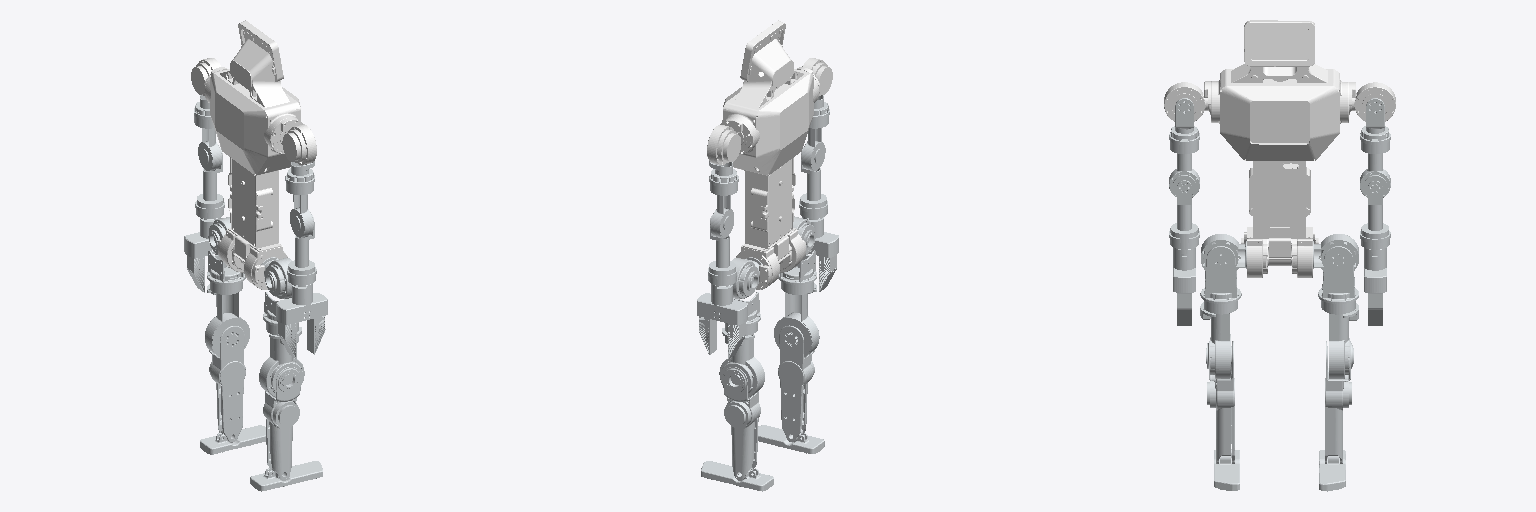
--- Render facts (derived) ---
Views: 3 orthographic renders of the robot side by side, from view 1: azimuth 30°, elevation 25°; view 2: azimuth 150°, elevation 25°; view 3: azimuth 270°, elevation 25°.
Robot: kbot — 22 links, 21 joints (10 revolute, 11 fixed); root link base; default pose: all joints at 0.
Links seen in each view (by area): view 1: body1-part, leg3_shell2, leg3_shell22, hand_shell_2, leg2_shell_2, leg2_shell, hand_shell, shoulder_2, foot3, leg1_shell, arm3_shell2, arm3_shell (+7 smaller); view 2: body1-part, leg3_shell22, leg3_shell2, hand_shell, leg2_shell, leg2_shell_2, hand_shell_2, foot1, shoulder, leg1_shell3, foot3, arm3_shell2 (+7 smaller); view 3: body1-part, leg1_shell, leg1_shell3, leg3_shell22, leg3_shell2, hand_shell_2, hand_shell, arm3_shell2, leg2_shell, arm3_shell, leg2_shell_2, arm1_top (+9 smaller).
Boxes of the visible links, x1,y1,x2,y2 form: body1-part: (204, 20, 302, 289); leg3_shell2: (209, 326, 245, 442); leg3_shell22: (263, 367, 300, 480); hand_shell_2: (276, 284, 327, 358); leg2_shell_2: (259, 338, 304, 397); leg2_shell: (205, 292, 249, 356); hand_shell: (184, 217, 220, 292); shoulder_2: (280, 124, 316, 164); foot3: (250, 461, 322, 491); leg1_shell: (207, 250, 245, 294); arm3_shell2: (287, 215, 316, 285); arm3_shell: (195, 148, 224, 218); body1-part: (720, 20, 819, 289); leg3_shell22: (778, 325, 814, 442); leg3_shell2: (723, 367, 760, 480); hand_shell: (697, 284, 747, 359); leg2_shell: (719, 334, 764, 397); leg2_shell_2: (774, 292, 819, 356); hand_shell_2: (802, 217, 838, 291); foot1: (701, 461, 773, 491); shoulder: (707, 125, 743, 164); leg1_shell3: (778, 250, 816, 294); foot3: (758, 425, 824, 453); arm3_shell2: (799, 147, 827, 218); body1-part: (1204, 20, 1355, 277); leg1_shell: (1318, 246, 1358, 320); leg1_shell3: (1200, 246, 1241, 319); leg3_shell22: (1207, 341, 1234, 463); leg3_shell2: (1325, 341, 1351, 463); hand_shell_2: (1173, 248, 1195, 325); hand_shell: (1364, 248, 1386, 325); arm3_shell2: (1169, 180, 1199, 249); leg2_shell: (1329, 313, 1353, 378); arm3_shell: (1360, 181, 1390, 249); leg2_shell_2: (1206, 313, 1230, 378); arm1_top: (1360, 98, 1390, 153).
Bounding box of the posed robot: 0.2206 × 0.62 × 1.33 m (x, y, z).
21 mesh visuals loaded from 21 distinct referenced files (21 binary STL).

robot.urdf — kbot:
<robot name="kbot">
  <link name="base">
    <inertial>
      <origin rpy="0 0 0" xyz="0 0 0" />
      <mass value="0.001" />
      <inertia ixx="0.000001" ixy="0" ixz="0" iyy="0.000001" iyz="0" izz="0.000001" />
    </inertial>
  </link>
  <joint name="floating_base" type="fixed">
    <origin rpy="-1.57 3.14 0" xyz="0 0 0" />
    <parent link="base" />
    <child link="body1-part" />
  </joint>
  <link name="body1-part">
    <visual>
      <origin xyz="0 0 0" rpy="0 0 0" />
      <geometry>
        <mesh filename="meshes/body1-part.stl" />
      </geometry>
      <material name="body1-part_material">
        <color rgba="1 1 1 1" />
      </material>
    </visual>
    <collision>
      <origin xyz="0 0 0" rpy="0 0 0" />
      <geometry>
        <mesh filename="meshes/body1-part.stl" />
      </geometry>
    </collision>
    <inertial>
      <mass value="11.417627727" />
      <inertia ixx="0.5999083516993914" iyy="0.11036796524213266" izz="0.5097317878090031" ixy="0.008267685111984325" ixz="2.5827664262885333e-06" iyz="-0.0002480364319152404" />
      <origin xyz="-0.0030205706440076343 -0.1594728810161352 -0.00012751185828538186" rpy="0 0 0" />
    </inertial>
  </link>
  <joint name="L_shoulder_y" type="fixed">
    <origin xyz="-1.0603759e-05 0.018089562050771318 0.18749980999999996" rpy="3.1415926071795868 -2.220446049250313e-15 3.1415926071795868" />
    <parent link="body1-part" />
    <child link="shoulder" />
    <limit effort="80" velocity="5" lower="0" upper="3.1415927" />
    <axis xyz="0 0 1" />
  </joint>
  <link name="shoulder">
    <visual>
      <origin xyz="0 0 0" rpy="0 0 0" />
      <geometry>
        <mesh filename="meshes/shoulder.stl" />
      </geometry>
      <material name="shoulder_material">
        <color rgba="1 1 1 1" />
      </material>
    </visual>
    <collision>
      <origin xyz="0 0 0" rpy="0 0 0" />
      <geometry>
        <mesh filename="meshes/shoulder.stl" />
      </geometry>
    </collision>
    <inertial>
      <mass value="1.10769407" />
      <inertia ixx="0.001482119975775339" iyy="0.0010408512352939995" izz="0.0009860091656447958" ixy="1.6247468564122567e-08" ixz="-3.1279807919019336e-06" iyz="6.454824186323744e-09" />
      <origin xyz="-0.002143291631555535 5.498303797115525e-05 -0.06646243607358847" rpy="0 0 0" />
    </inertial>
  </link>
  <joint name="R_shoulder_y" type="fixed">
    <origin xyz="-1.0603759e-05 0.018089564 -0.18750019" rpy="0.0 0.0 -3.1415926071795863" />
    <parent link="body1-part" />
    <child link="shoulder_2" />
    <limit effort="80" velocity="5" lower="-3.1415927" upper="0" />
    <axis xyz="0 0 1" />
  </joint>
  <link name="shoulder_2">
    <visual>
      <origin xyz="0 0 0" rpy="0 0 0" />
      <geometry>
        <mesh filename="meshes/shoulder_2.stl" />
      </geometry>
      <material name="shoulder_material_2">
        <color rgba="1 1 1 1" />
      </material>
    </visual>
    <collision>
      <origin xyz="0 0 0" rpy="0 0 0" />
      <geometry>
        <mesh filename="meshes/shoulder_2.stl" />
      </geometry>
    </collision>
    <inertial>
      <mass value="1.10769287" />
      <inertia ixx="0.0014821176689157921" iyy="0.0010408501146374892" izz="0.0009860087317400204" ixy="-1.6193110601740246e-08" ixz="-3.1279664688578613e-06" iyz="-6.433007602960686e-09" />
      <origin xyz="-0.0021432871527224694 -5.498738075250492e-05 -0.0664624713194008" rpy="0 0 0" />
    </inertial>
  </link>
  <joint name="L_shoulder_x" type="fixed">
    <origin xyz="0.022511964 5.627838501275897e-05 -0.06749999993301277" rpy="1.5707963 2.220446049250313e-16 1.5707963" />
    <parent link="shoulder" />
    <child link="arm1_top" />
    <limit effort="80" velocity="5" lower="-0.47996554" upper="3.6302848" />
    <axis xyz="0 0 -1" />
  </joint>
  <link name="arm1_top">
    <visual>
      <origin xyz="0 0 0" rpy="0 0 0" />
      <geometry>
        <mesh filename="meshes/arm1_top.stl" />
      </geometry>
      <material name="arm1_top_material">
        <color rgba="0.89803922 0.91764706 0.92941176 1" />
      </material>
    </visual>
    <collision>
      <origin xyz="0 0 0" rpy="0 0 0" />
      <geometry>
        <mesh filename="meshes/arm1_top.stl" />
      </geometry>
    </collision>
    <inertial>
      <mass value="0.6485195170000001" />
      <inertia ixx="0.0005534340544495192" iyy="0.001294931504165387" izz="0.0012122867763442184" ixy="2.74317480147297e-09" ixz="-0.0002934973441160383" iyz="-1.2020658865489369e-08" />
      <origin xyz="-0.10491673233892948 -2.224482447297966e-06 -0.02270232245867197" rpy="0 0 0" />
    </inertial>
  </link>
  <joint name="R_shoulder_x" type="fixed">
    <origin xyz="0.022511964 -5.627838501275897e-05 -0.06749999993301277" rpy="1.5707963999999996 2.220446049250313e-16 -1.5707963000000003" />
    <parent link="shoulder_2" />
    <child link="arm1_top_2" />
    <limit effort="80" velocity="5" lower="-0.47996554" upper="3.6302848" />
    <axis xyz="0 0 1" />
  </joint>
  <link name="arm1_top_2">
    <visual>
      <origin xyz="0 0 0" rpy="0 0 0" />
      <geometry>
        <mesh filename="meshes/arm1_top_2.stl" />
      </geometry>
      <material name="arm1_top_2_material">
        <color rgba="0.89803922 0.91764706 0.92941176 1" />
      </material>
    </visual>
    <collision>
      <origin xyz="0 0 0" rpy="0 0 0" />
      <geometry>
        <mesh filename="meshes/arm1_top_2.stl" />
      </geometry>
    </collision>
    <inertial>
      <mass value="0.648518913" />
      <inertia ixx="0.0005534337229653212" iyy="0.001294930169757423" izz="0.0012122856241893294" ixy="3.9483970889338744e-10" ixz="0.00029349804127191845" iyz="1.2665017999267616e-08" />
      <origin xyz="-0.10491675895909988 -2.1578500229643037e-06 0.021702291176927777" rpy="0 0 0" />
    </inertial>
  </link>
  <joint name="L_hip_y" type="revolute">
    <origin xyz="-1.0608503738440467e-05 -0.43201043179234816 0.08770000686486729" rpy="-3.1415925071795874 4.641020723283873e-08 -3.1415926535897913" />
    <parent link="body1-part" />
    <child link="leg0_shell" />
    <limit effort="60" velocity="1000" lower="-1.5707963" upper="1.5707963" />
    <axis xyz="0 0 1" />
  <dynamics damping="0.0" friction="0" /></joint>
  <link name="leg0_shell">
    <visual>
      <origin xyz="0 0 0" rpy="0 0 0" />
      <geometry>
        <mesh filename="meshes/leg0_shell.stl" />
      </geometry>
      <material name="leg0_shell_material">
        <color rgba="0.89803922 0.91764706 0.92941176 1" />
      </material>
    </visual>
    <collision>
      <origin xyz="0 0 0" rpy="0 0 0" />
      <geometry>
        <mesh filename="meshes/leg0_shell.stl" />
      </geometry>
    </collision>
    <inertial>
      <mass value="1.3234480570000002" />
      <inertia ixx="0.0018858182013085157" iyy="0.0014248321713891826" izz="0.0012997049050806665" ixy="-4.52869566177398e-12" ixz="7.0061936481283574e-06" iyz="-9.656589712159897e-13" />
      <origin xyz="-0.003746324486178218 -5.307040759284793e-10 -0.06812512159159122" rpy="0 0 0" />
    </inertial>
  </link>
  <joint name="R_hip_y" type="revolute">
    <origin xyz="-1.0600340183049505e-05 -0.4320104467591277 -0.08819999313513191" rpy="9.99999991702083e-08 4.641020723283873e-08 -3.1415926535897913" />
    <parent link="body1-part" />
    <child link="leg0_shell_2" />
    <limit effort="60" velocity="1000" lower="-1.5707963" upper="1.5707963" />
    <axis xyz="0 0 1" />
  <dynamics damping="0.0" friction="0" /></joint>
  <link name="leg0_shell_2">
    <visual>
      <origin xyz="0 0 0" rpy="0 0 0" />
      <geometry>
        <mesh filename="meshes/leg0_shell_2.stl" />
      </geometry>
      <material name="leg0_shell_material_2">
        <color rgba="0.89803922 0.91764706 0.92941176 1" />
      </material>
    </visual>
    <collision>
      <origin xyz="0 0 0" rpy="0 0 0" />
      <geometry>
        <mesh filename="meshes/leg0_shell_2.stl" />
      </geometry>
    </collision>
    <inertial>
      <mass value="1.3234480570000002" />
      <inertia ixx="0.0018858182013085157" iyy="0.0014248321713891826" izz="0.0012997049050806665" ixy="-4.52869566177398e-12" ixz="7.0061936481283574e-06" iyz="-9.656589712159897e-13" />
      <origin xyz="-0.003746324486178218 -5.307040759284793e-10 -0.06762512159159122" rpy="0 0 0" />
    </inertial>
  </link>
  <joint name="L_shoulder_z" type="fixed">
    <origin xyz="-0.13949999999999996 -1.461921509987972e-09 -0.023499999155960766" rpy="-4.641020604450648e-08 1.5707962732050293 0.0" />
    <parent link="arm1_top" />
    <child link="arm2_shell" />
    <limit effort="80" velocity="5" lower="-1.5707963" upper="1.5707963" />
    <axis xyz="0 0 1" />
  </joint>
  <link name="arm2_shell">
    <visual>
      <origin xyz="0 0 0" rpy="0 0 0" />
      <geometry>
        <mesh filename="meshes/arm2_shell.stl" />
      </geometry>
      <material name="arm2_shell_material">
        <color rgba="0.89803922 0.91764706 0.92941176 1" />
      </material>
    </visual>
    <collision>
      <origin xyz="0 0 0" rpy="0 0 0" />
      <geometry>
        <mesh filename="meshes/arm2_shell.stl" />
      </geometry>
    </collision>
    <inertial>
      <mass value="0.51101595" />
      <inertia ixx="0.0006782501033956834" iyy="0.0005353980560191653" izz="0.000254883921623482" ixy="0.0" ixz="-6.066717667565759e-06" iyz="0.0" />
      <origin xyz="-0.006335032352426245 0.0 -0.09042107492219607" rpy="0 0 0" />
    </inertial>
  </link>
  <joint name="R_shoulder_z" type="fixed">
    <origin xyz="-0.13949999999999999 0.0 0.02249999915596076" rpy="-3.1415926071795863 1.5707963 0.0" />
    <parent link="arm1_top_2" />
    <child link="arm2_shell_2" />
    <limit effort="80" velocity="5" lower="-1.5707963" upper="1.5707963" />
    <axis xyz="0 0 -1" />
  </joint>
  <link name="arm2_shell_2">
    <visual>
      <origin xyz="0 0 0" rpy="0 0 0" />
      <geometry>
        <mesh filename="meshes/arm2_shell_2.stl" />
      </geometry>
      <material name="arm2_shell_material_2">
        <color rgba="0.89803922 0.91764706 0.92941176 1" />
      </material>
    </visual>
    <collision>
      <origin xyz="0 0 0" rpy="0 0 0" />
      <geometry>
        <mesh filename="meshes/arm2_shell_2.stl" />
      </geometry>
    </collision>
    <inertial>
      <mass value="0.51101595" />
      <inertia ixx="0.0006782500996314132" iyy="0.000535398052254895" izz="0.000254883921623482" ixy="0.0" ixz="-6.066712483597235e-06" iyz="0.0" />
      <origin xyz="0.006335032352426245 0.0 0.08992107443622689" rpy="0 0 0" />
    </inertial>
  </link>
  <joint name="L_hip_x" type="revolute">
    <origin xyz="0.026499999999999965 -1.516591136963008e-09 -0.06950000151659115" rpy="-1.5707963 0.0 1.5707963" />
    <parent link="leg0_shell" />
    <child link="leg1_shell" />
    <limit effort="40" velocity="1000" lower="-0.34906585" upper="3.1852259" />
    <axis xyz="0 0 1" />
  <dynamics damping="0.0" friction="0" /></joint>
  <link name="leg1_shell">
    <visual>
      <origin xyz="0 0 0" rpy="0 0 0" />
      <geometry>
        <mesh filename="meshes/leg1_shell.stl" />
      </geometry>
      <material name="leg1_shell_material">
        <color rgba="0.89803922 0.91764706 0.92941176 1" />
      </material>
    </visual>
    <collision>
      <origin xyz="0 0 0" rpy="0 0 0" />
      <geometry>
        <mesh filename="meshes/leg1_shell.stl" />
      </geometry>
    </collision>
    <inertial>
      <mass value="1.360769512" />
      <inertia ixx="0.0016616954886228494" iyy="0.002821853448229639" izz="0.0028458063036535114" ixy="0.0001758148701161061" ixz="0.0003020245997305347" iyz="-9.5124528329072e-06" />
      <origin xyz="-0.11647102759639932 0.0032311720350168987 0.025411038661602842" rpy="0 0 0" />
    </inertial>
  </link>
  <joint name="R_hip_x" type="revolute">
    <origin xyz="0.026499999999999965 -1.516591136963008e-09 -0.06900000151659115" rpy="1.5707963 -4.641020678874952e-08 -1.5707963535897917" />
    <parent link="leg0_shell_2" />
    <child link="leg1_shell3" />
    <limit effort="40" velocity="1000" lower="-0.34906585" upper="3.1852259" />
    <axis xyz="0 0 1" />
  <dynamics damping="0.0" friction="0" /></joint>
  <link name="leg1_shell3">
    <visual>
      <origin xyz="0 0 0" rpy="0 0 0" />
      <geometry>
        <mesh filename="meshes/leg1_shell3.stl" />
      </geometry>
      <material name="leg1_shell3_material">
        <color rgba="0.89803922 0.91764706 0.92941176 1" />
      </material>
    </visual>
    <collision>
      <origin xyz="0 0 0" rpy="0 0 0" />
      <geometry>
        <mesh filename="meshes/leg1_shell3.stl" />
      </geometry>
    </collision>
    <inertial>
      <mass value="1.360769362" />
      <inertia ixx="0.0016616952587461726" iyy="0.00279725951718537" izz="0.0028212122544790225" ixy="-0.00016727034625066447" ixz="0.00030152306354767384" iyz="9.512542262690988e-06" />
      <origin xyz="-0.11629451715520464 -0.0032311805394316336 0.02541103395361007" rpy="0 0 0" />
    </inertial>
  </link>
  <joint name="L_elbow" type="fixed">
    <origin xyz="-0.026 0.0 -0.09799999977224338" rpy="-3.1415926071795863 -1.5707963 0.0" />
    <parent link="arm2_shell" />
    <child link="arm3_shell" />
    <limit effort="80" velocity="5" lower="-2.5307274" upper="0" />
    <axis xyz="0 0 1" />
  </joint>
  <link name="arm3_shell">
    <visual>
      <origin xyz="0 0 0" rpy="0 0 0" />
      <geometry>
        <mesh filename="meshes/arm3_shell.stl" />
      </geometry>
      <material name="arm3_shell_material">
        <color rgba="0.89803922 0.91764706 0.92941176 1" />
      </material>
    </visual>
    <collision>
      <origin xyz="0 0 0" rpy="0 0 0" />
      <geometry>
        <mesh filename="meshes/arm3_shell.stl" />
      </geometry>
    </collision>
    <inertial>
      <mass value="0.57887479" />
      <inertia ixx="0.00042824885963562424" iyy="0.0013607750713956906" izz="0.001338486101760066" ixy="-4.378399131316926e-14" ixz="0.00014515232248489153" iyz="4.468061669140367e-13" />
      <origin xyz="-0.14008673576280925 -3.715266367753273e-10 0.019422482836149137" rpy="0 0 0" />
    </inertial>
  </link>
  <joint name="R_elbow" type="fixed">
    <origin xyz="0.026 0.0 0.09750000022775662" rpy="-3.1415926071795863 1.5707963 0.0" />
    <parent link="arm2_shell_2" />
    <child link="arm3_shell2" />
    <limit effort="80" velocity="5" lower="0" upper="2.5307274" />
    <axis xyz="0 0 1" />
  </joint>
  <link name="arm3_shell2">
    <visual>
      <origin xyz="0 0 0" rpy="0 0 0" />
      <geometry>
        <mesh filename="meshes/arm3_shell2.stl" />
      </geometry>
      <material name="arm3_shell2_material">
        <color rgba="0.89803922 0.91764706 0.92941176 1" />
      </material>
    </visual>
    <collision>
      <origin xyz="0 0 0" rpy="0 0 0" />
      <geometry>
        <mesh filename="meshes/arm3_shell2.stl" />
      </geometry>
    </collision>
    <inertial>
      <mass value="0.57887479" />
      <inertia ixx="0.00042824885963562424" iyy="0.0013607750713956906" izz="0.001338486101760066" ixy="-4.378399131316926e-14" ixz="0.00014515232248489153" iyz="4.468061669140367e-13" />
      <origin xyz="-0.14008673576280925 -3.715266367753273e-10 0.019422482836149137" rpy="0 0 0" />
    </inertial>
  </link>
  <joint name="L_hip_z" type="revolute">
    <origin xyz="-0.15649999999999997 0.00011981393 0.02749999848340886" rpy="-0.0 1.5707963 0.0" />
    <parent link="leg1_shell" />
    <child link="leg2_shell" />
    <limit effort="40" velocity="1000" lower="-1.5707963" upper="1.5707963" />
    <axis xyz="0 0 1" />
  <dynamics damping="0.0" friction="0" /></joint>
  <link name="leg2_shell">
    <visual>
      <origin xyz="0 0 0" rpy="0 0 0" />
      <geometry>
        <mesh filename="meshes/leg2_shell.stl" />
      </geometry>
      <material name="leg2_shell_material">
        <color rgba="0.89803922 0.91764706 0.92941176 1" />
      </material>
    </visual>
    <collision>
      <origin xyz="0 0 0" rpy="0 0 0" />
      <geometry>
        <mesh filename="meshes/leg2_shell.stl" />
      </geometry>
    </collision>
    <inertial>
      <mass value="1.820922667" />
      <inertia ixx="0.003118121982315593" iyy="0.004225341330146897" izz="0.0020643672406963944" ixy="-6.676045962463132e-09" ixz="-2.2416298133304992e-08" iyz="-3.350740574812136e-05" />
      <origin xyz="4.0855477721508534e-07 0.000531684411846282 -0.13730778343676694" rpy="0 0 0" />
    </inertial>
  </link>
  <joint name="R_hip_z" type="revolute">
    <origin xyz="-0.15649999999999997 -0.00011981393 0.02749999848340886" rpy="-3.1415926535897922 -1.5707962732050305 0.0" />
    <parent link="leg1_shell3" />
    <child link="leg2_shell_2" />
    <limit effort="40" velocity="1000" lower="-1.5707963" upper="1.5707963" />
    <axis xyz="0 0 1" />
  <dynamics damping="0.0" friction="0" /></joint>
  <link name="leg2_shell_2">
    <visual>
      <origin xyz="0 0 0" rpy="0 0 0" />
      <geometry>
        <mesh filename="meshes/leg2_shell_2.stl" />
      </geometry>
      <material name="leg2_shell_material_2">
        <color rgba="0.89803922 0.91764706 0.92941176 1" />
      </material>
    </visual>
    <collision>
      <origin xyz="0 0 0" rpy="0 0 0" />
      <geometry>
        <mesh filename="meshes/leg2_shell_2.stl" />
      </geometry>
    </collision>
    <inertial>
      <mass value="1.820922667" />
      <inertia ixx="0.003118121982315593" iyy="0.004225341330146897" izz="0.0020643672406963944" ixy="-6.676045962463132e-09" ixz="-2.2416298133304992e-08" iyz="-3.350740574812136e-05" />
      <origin xyz="4.0855477721508534e-07 0.000531684411846282 -0.13730778343676694" rpy="0 0 0" />
    </inertial>
  </link>
  <joint name="L_wrist" type="fixed">
    <origin xyz="-0.18149999999999994 -1.461921509987972e-09 0.021500000844039233" rpy="-4.641020604450648e-08 1.5707962732050293 0.0" />
    <parent link="arm3_shell" />
    <child link="hand_shell" />
    <limit effort="80" velocity="5" lower="0" upper="6.2831853" />
    <axis xyz="0 0 1" />
  </joint>
  <link name="hand_shell">
    <visual>
      <origin xyz="0 0 0" rpy="0 0 0" />
      <geometry>
        <mesh filename="meshes/hand_shell.stl" />
      </geometry>
      <material name="hand_shell_material">
        <color rgba="0.89803922 0.91764706 0.92941176 1" />
      </material>
    </visual>
    <collision>
      <origin xyz="0 0 0" rpy="0 0 0" />
      <geometry>
        <mesh filename="meshes/hand_shell.stl" />
      </geometry>
    </collision>
    <inertial>
      <mass value="0.7933517460000001" />
      <inertia ixx="0.002035289036126633" iyy="0.0028711006179816968" izz="0.001279636245454222" ixy="-5.174363969819452e-07" ixz="-2.321711817641545e-05" iyz="3.5513831423902756e-06" />
      <origin xyz="0.0007087169571505654 0.00012971021920492218 -0.07462970584649938" rpy="0 0 0" />
    </inertial>
  </link>
  <joint name="R_wrist" type="fixed">
    <origin xyz="-0.18149999999999994 -1.461921509987972e-09 0.021500000844039233" rpy="-4.641020604450648e-08 1.5707962732050293 0.0" />
    <parent link="arm3_shell2" />
    <child link="hand_shell_2" />
    <limit effort="80" velocity="5" lower="0" upper="6.2831853" />
    <axis xyz="0 0 1" />
  </joint>
  <link name="hand_shell_2">
    <visual>
      <origin xyz="0 0 0" rpy="0 0 0" />
      <geometry>
        <mesh filename="meshes/hand_shell_2.stl" />
      </geometry>
      <material name="hand_shell_material_2">
        <color rgba="0.89803922 0.91764706 0.92941176 1" />
      </material>
    </visual>
    <collision>
      <origin xyz="0 0 0" rpy="0 0 0" />
      <geometry>
        <mesh filename="meshes/hand_shell_2.stl" />
      </geometry>
    </collision>
    <inertial>
      <mass value="0.7933517460000001" />
      <inertia ixx="0.002035289036126633" iyy="0.0028711006179816968" izz="0.001279636245454222" ixy="-5.174363969819452e-07" ixz="-2.321711817641545e-05" iyz="3.5513831423902756e-06" />
      <origin xyz="0.0007087169571505654 0.00012971021920492218 -0.07462970584649938" rpy="0 0 0" />
    </inertial>
  </link>
  <joint name="L_knee" type="revolute">
    <origin xyz="0.0 0.0342 -0.14250000009378214" rpy="1.5707963 0.0 0.0" />
    <parent link="leg2_shell" />
    <child link="leg3_shell2" />
    <limit effort="60" velocity="1000" lower="-1.57" upper="0" />
    <axis xyz="0 0 1" />
  <dynamics damping="0.0" friction="0" /></joint>
  <link name="leg3_shell2">
    <visual>
      <origin xyz="0 0 0" rpy="0 0 0" />
      <geometry>
        <mesh filename="meshes/leg3_shell2.stl" />
      </geometry>
      <material name="leg3_shell2_material">
        <color rgba="0.89803922 0.91764706 0.92941176 1" />
      </material>
    </visual>
    <collision>
      <origin xyz="0 0 0" rpy="0 0 0" />
      <geometry>
        <mesh filename="meshes/leg3_shell2.stl" />
      </geometry>
    </collision>
    <inertial>
      <mass value="1.179677561" />
      <inertia ixx="0.0075280219401663686" iyy="0.0011236273981275156" izz="0.007505076656997992" ixy="6.871058258502185e-05" ixz="-1.92682149888721e-05" iyz="0.00022981113471710275" />
      <origin xyz="0.0010329853873719736 -0.1254795525920513 0.03667110282750395" rpy="0 0 0" />
    </inertial>
  </link>
  <joint name="R_knee" type="revolute">
    <origin xyz="0.0 0.0342 -0.14250000009378214" rpy="1.5707963 0.0 0.0" />
    <parent link="leg2_shell_2" />
    <child link="leg3_shell22" />
    <limit effort="60" velocity="1000" lower="-1.57" upper="0" />
    <axis xyz="0 0 -1" />
  <dynamics damping="0.0" friction="0" /></joint>
  <link name="leg3_shell22">
    <visual>
      <origin xyz="0 0 0" rpy="0 0 0" />
      <geometry>
        <mesh filename="meshes/leg3_shell22.stl" />
      </geometry>
      <material name="leg3_shell22_material">
        <color rgba="0.89803922 0.91764706 0.92941176 1" />
      </material>
    </visual>
    <collision>
      <origin xyz="0 0 0" rpy="0 0 0" />
      <geometry>
        <mesh filename="meshes/leg3_shell22.stl" />
      </geometry>
    </collision>
    <inertial>
      <mass value="1.179683991" />
      <inertia ixx="0.007528039668357469" iyy="0.0011236329917092309" izz="0.007505094295682782" ixy="-6.871642858641452e-05" ixz="1.9269189699938515e-05" iyz="0.00022981283551319127" />
      <origin xyz="-0.0010330286803835712 -0.12547979367732118 0.036671195513248635" rpy="0 0 0" />
    </inertial>
  </link>
  <joint name="R_ankle" type="revolute">
    <origin xyz="1.0767167917674625e-08 -0.29999999865410376 0.027200000000000002" rpy="-3.1415926071795868 0.0 -3.1415926071795868" />
    <parent link="leg3_shell22" />
    <child link="foot3" />
    <limit effort="17" velocity="1000" lower="-0.6981317" upper="0.6981317" />
    <axis xyz="0 0 -1" />
  <dynamics damping="0.0" friction="0.1" /></joint>
  <link name="foot3">
    <visual>
      <origin xyz="0 0 0" rpy="0 0 0" />
      <geometry>
        <mesh filename="meshes/foot3.stl" />
      </geometry>
      <material name="foot3_material">
        <color rgba="0.89803922 0.91764706 0.92941176 1" />
      </material>
    </visual>
    <collision>
      <origin xyz="0 0 0" rpy="0 0 0" />
      <geometry>
        <mesh filename="meshes/foot3.stl" />
      </geometry>
    </collision>
    <inertial>
      <mass value="0.5457471700000001" />
      <inertia ixx="0.00026065523975398483" iyy="0.0020289390726584825" izz="0.0018716018719932023" ixy="3.696933872469263e-05" ixz="3.095371968865274e-05" iyz="-3.6446932298433347e-06" />
      <origin xyz="0.021026422150638727 -0.018472025092617035 -0.023695689532891605" rpy="0 0 0" />
    </inertial>
  </link>
  <joint name="L_ankle" type="revolute">
    <origin xyz="0.0 -0.30000000004641003 0.07019999118206069" rpy="9.282041357749903e-08 0.0 0.0" />
    <parent link="leg3_shell2" />
    <child link="foot1" />
    <limit effort="17" velocity="1000" lower="-0.6981317" upper="0.6981317" />
    <axis xyz="0 0 -1" />
  <dynamics damping="0.0" friction="0.1" /></joint>
  <link name="foot1">
    <visual>
      <origin xyz="0 0 0" rpy="0 0 0" />
      <geometry>
        <mesh filename="meshes/foot1.stl" />
      </geometry>
      <material name="foot1_material">
        <color rgba="0.89803922 0.91764706 0.92941176 1" />
      </material>
    </visual>
    <collision>
      <origin xyz="0 0 0" rpy="0 0 0" />
      <geometry>
        <mesh filename="meshes/foot1.stl" />
      </geometry>
    </collision>
    <inertial>
      <mass value="0.54574734" />
      <inertia ixx="0.00026065523992286406" iyy="0.0020289393205482377" izz="0.0018716021578520194" ixy="3.696944831750269e-05" ixz="-3.095376367976456e-05" iyz="3.644697619567395e-06" />
      <origin xyz="0.021026404502789257 -0.018472020400304597 -0.01930430937248649" rpy="0 0 0" />
    </inertial>
  </link>
</robot>
